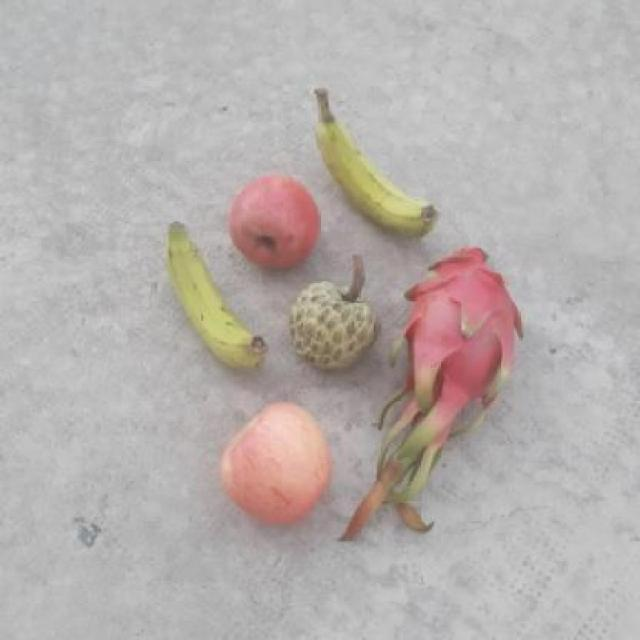apple: (220, 396, 346, 533), (220, 172, 332, 276)
banana: (316, 96, 452, 239), (158, 218, 268, 376)
dragon fruit: (393, 247, 535, 407)
sugar apple: (284, 277, 382, 368)
